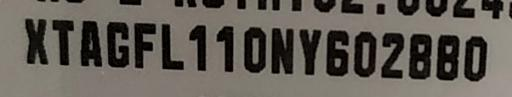letter: (239, 23, 269, 78), (20, 15, 52, 66), (158, 19, 186, 76), (460, 33, 490, 84), (208, 23, 238, 72), (433, 32, 461, 83), (130, 19, 156, 72), (378, 30, 404, 83), (75, 19, 103, 68), (406, 33, 434, 82), (104, 19, 130, 70), (270, 25, 296, 76), (297, 27, 323, 78), (324, 27, 348, 78), (352, 29, 376, 80), (52, 17, 76, 66), (187, 21, 209, 74)
